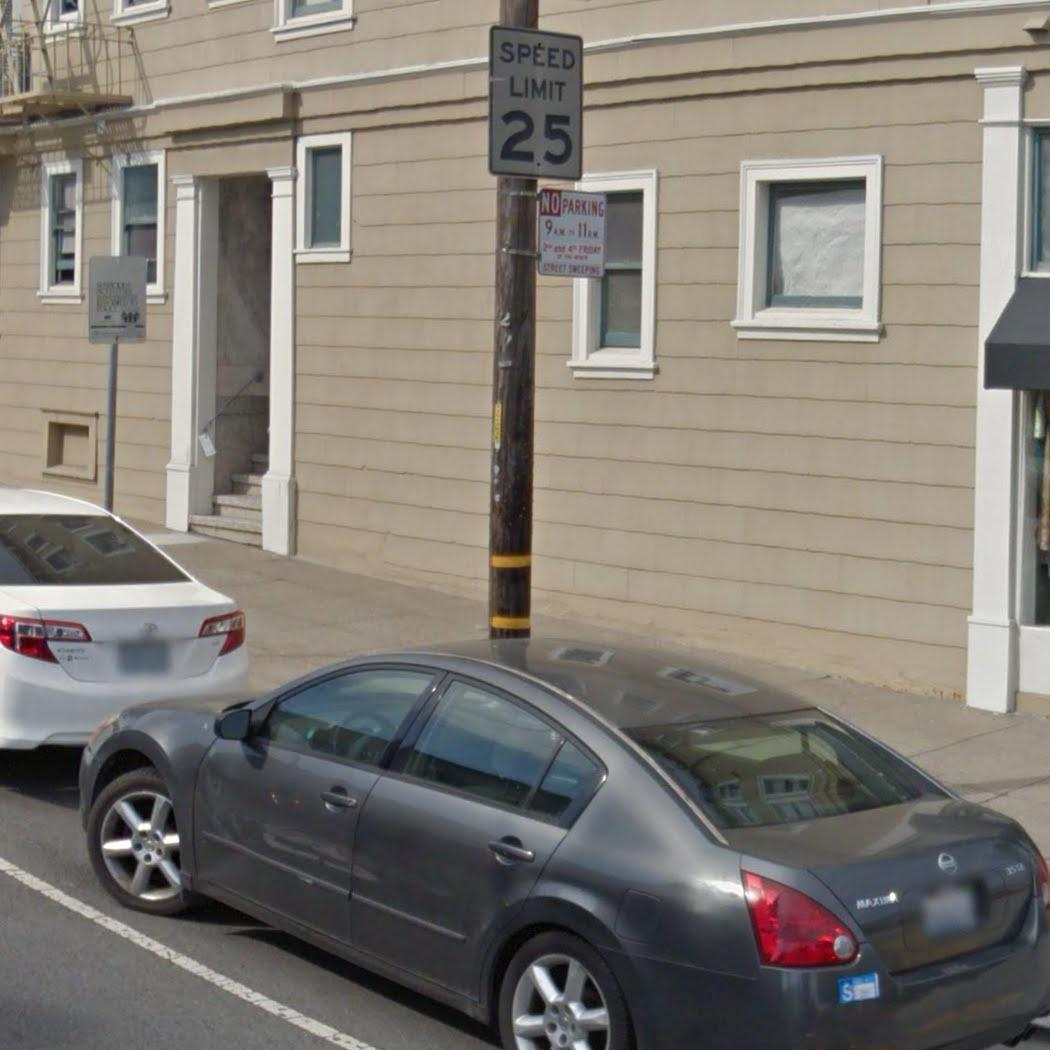No Parking: (538, 185, 610, 282)
